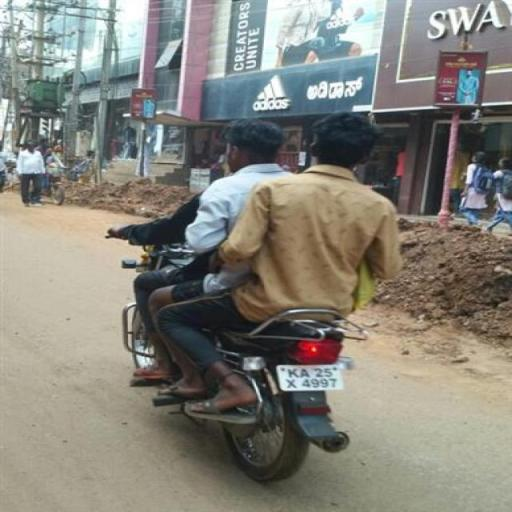tripple riding: (98, 111, 418, 316)
